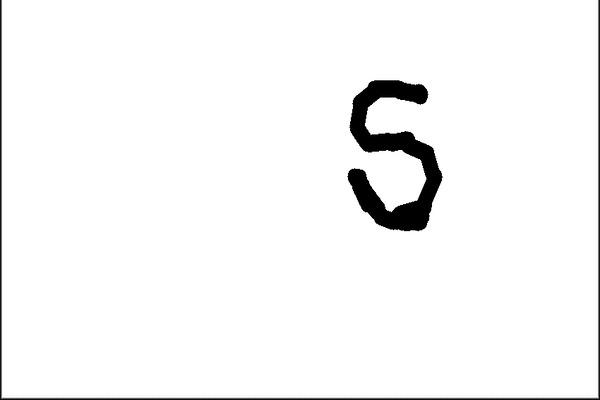S: (337, 73, 456, 239)
